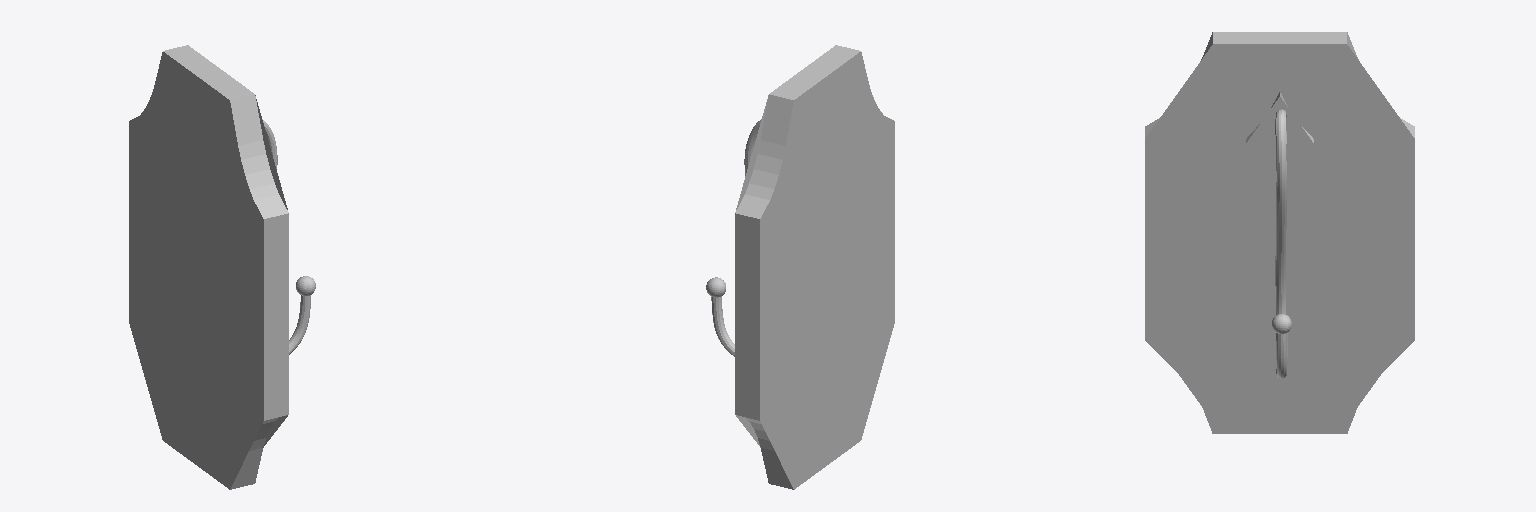
File: LampHook.obj
The picture shows the model from 3 angles: view 1: azimuth 30°, elevation 25°; view 2: azimuth 150°, elevation 25°; view 3: azimuth 270°, elevation 25°; orthographic projection.
Visible parts, largest first — view 1: LampHook; view 2: LampHook; view 3: LampHook.
Part boxes in pixels (x1,y1,x2,y2): LampHook: (129, 45, 315, 489); LampHook: (706, 45, 894, 489); LampHook: (1145, 32, 1414, 433).
Bounding box in the file's own units: 0.154 × 0.4809 × 0.3015.